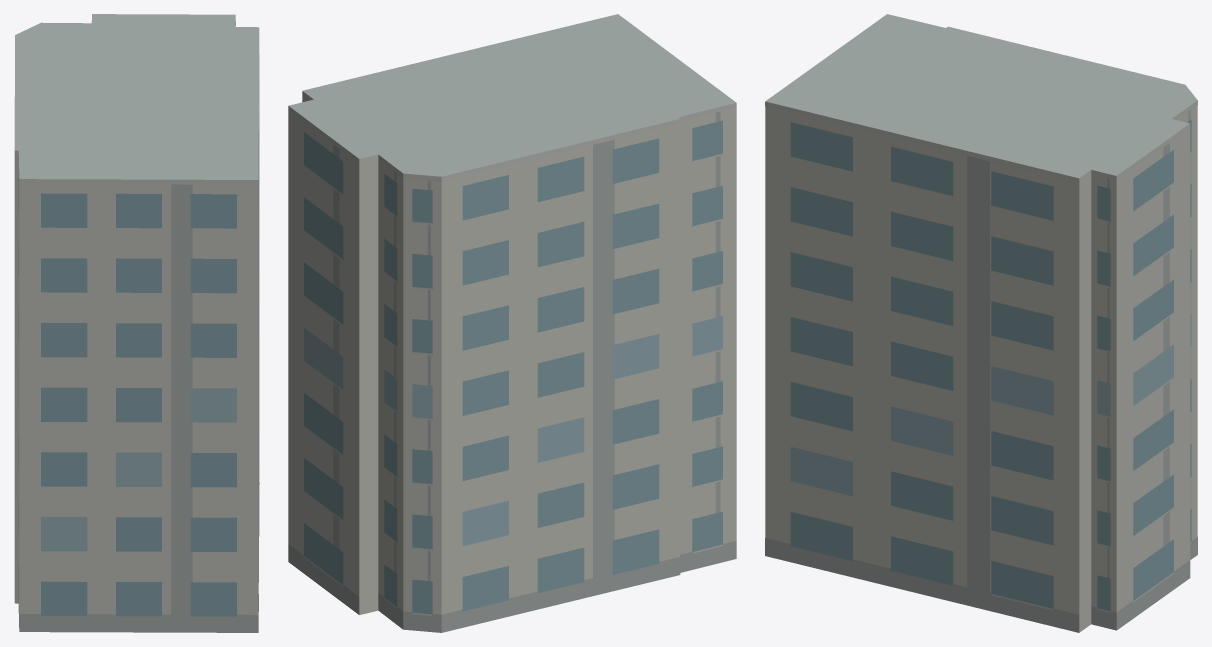
Rendered from survey-upis-32694263.glb.
3 renders of one model, left to right at view 1: azimuth 30°, elevation 25°; view 2: azimuth 150°, elevation 25°; view 3: azimuth 270°, elevation 25°, orthographic.
Parts seen in each view (by area): view 1: survey-upis-32694263.tmp; view 2: survey-upis-32694263.tmp; view 3: survey-upis-32694263.tmp.
Part boxes in pixels (bbox=[...]): survey-upis-32694263.tmp: bbox=[14, 14, 259, 632]; survey-upis-32694263.tmp: bbox=[288, 14, 736, 632]; survey-upis-32694263.tmp: bbox=[765, 14, 1197, 632].
Size of the model in its own units: 17.92 by 23.1 by 19.94.
